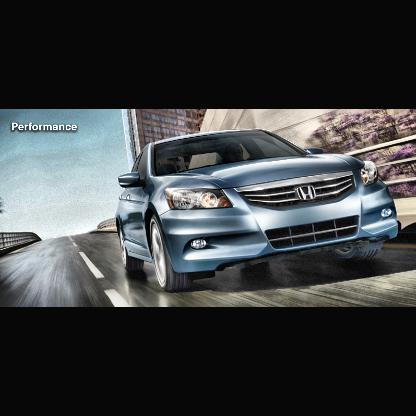Honda Accord Sedan 2012: (115, 129, 403, 294)
